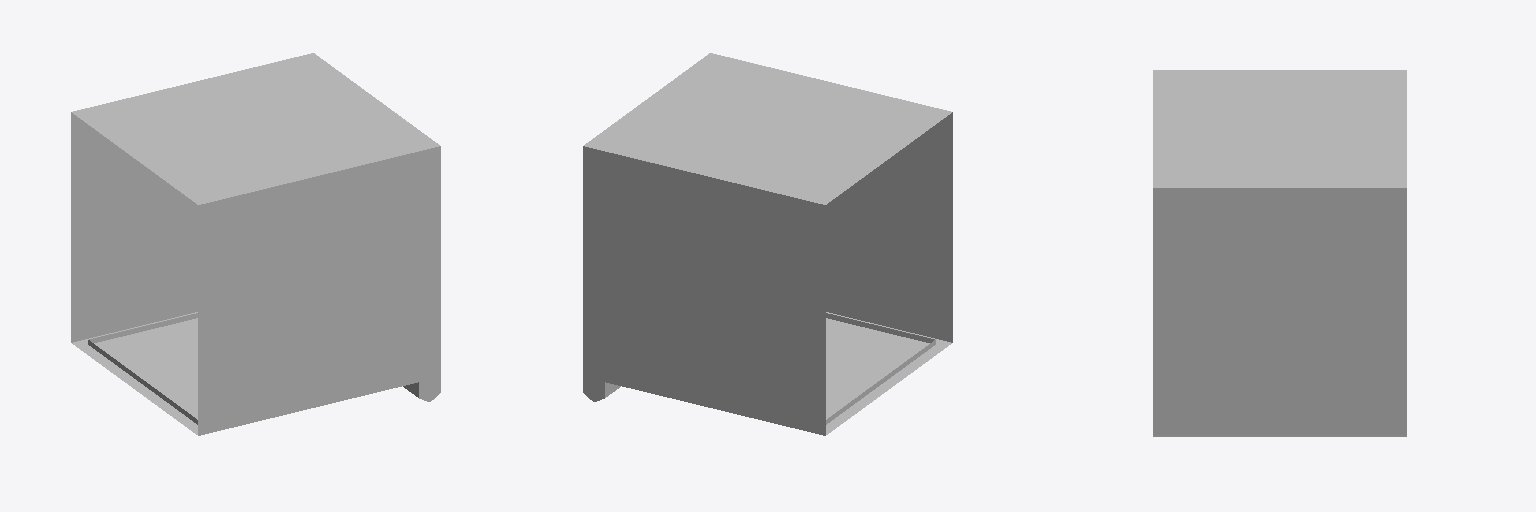
Rendered from kitchenCabinet.obj.
3 renders of one model, left to right at view 1: azimuth 30°, elevation 25°; view 2: azimuth 150°, elevation 25°; view 3: azimuth 270°, elevation 25°, orthographic.
Parts seen in each view (by area): view 1: Cube.001; view 2: Cube.001; view 3: Cube.001.
Part boxes in pixels (left/top/right/bottom): Cube.001: left=71, top=53, right=440, bottom=435; Cube.001: left=583, top=53, right=952, bottom=435; Cube.001: left=1153, top=70, right=1406, bottom=436.
Bounding box in the file's own units: 11 × 11 × 10.